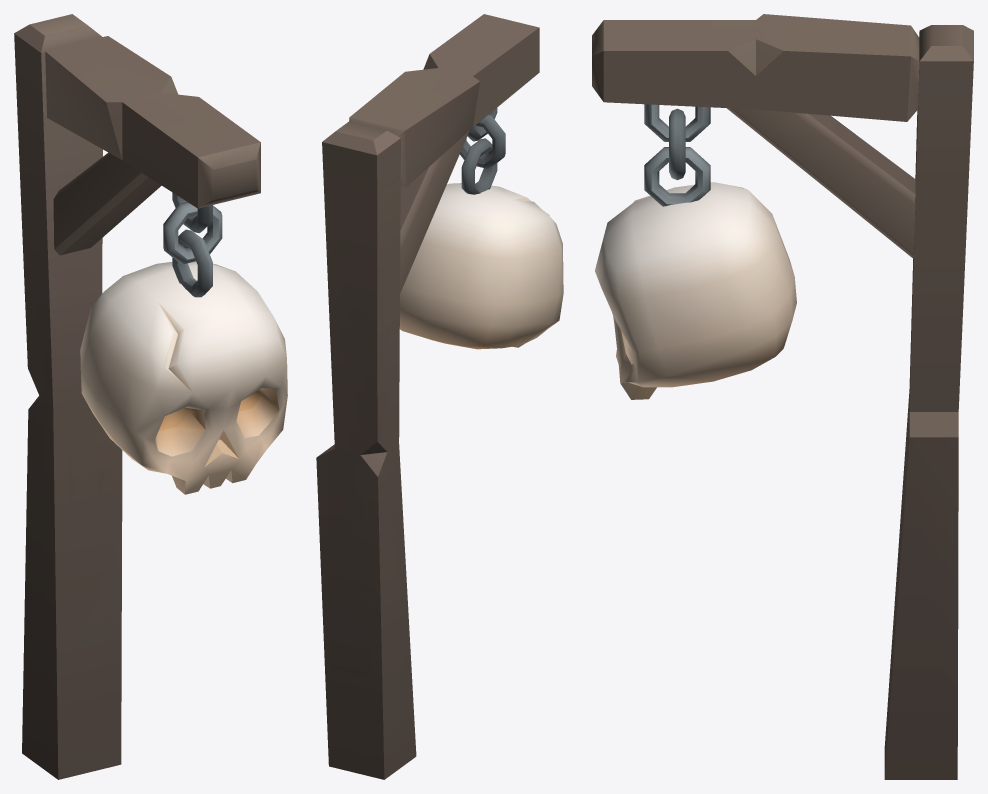
The model's file is post_skull.gltf.
The picture shows the model from 3 angles, left to right: view 1: azimuth 30°, elevation 25°; view 2: azimuth 150°, elevation 25°; view 3: azimuth 270°, elevation 25°; orthographic projection. The views are drawn at different scales.
Visible parts, largest first — view 1: post_skull, post_skull_skull; view 2: post_skull, post_skull_skull; view 3: post_skull, post_skull_skull.
Boxes of the visible parts, <box> form: post_skull: <box>14,14,260,779</box>; post_skull_skull: <box>80,192,287,494</box>; post_skull: <box>316,14,539,779</box>; post_skull_skull: <box>399,108,563,349</box>; post_skull: <box>592,14,973,779</box>; post_skull_skull: <box>595,104,796,399</box>.
Size of the model in its own units: 0.8091 by 3.3 by 1.57.
1 material, 1 textured.
